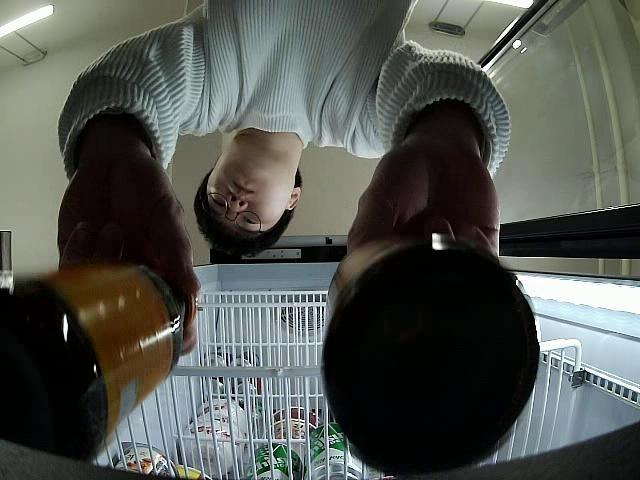17_vita500: (322, 227, 540, 476), (0, 255, 197, 460)
